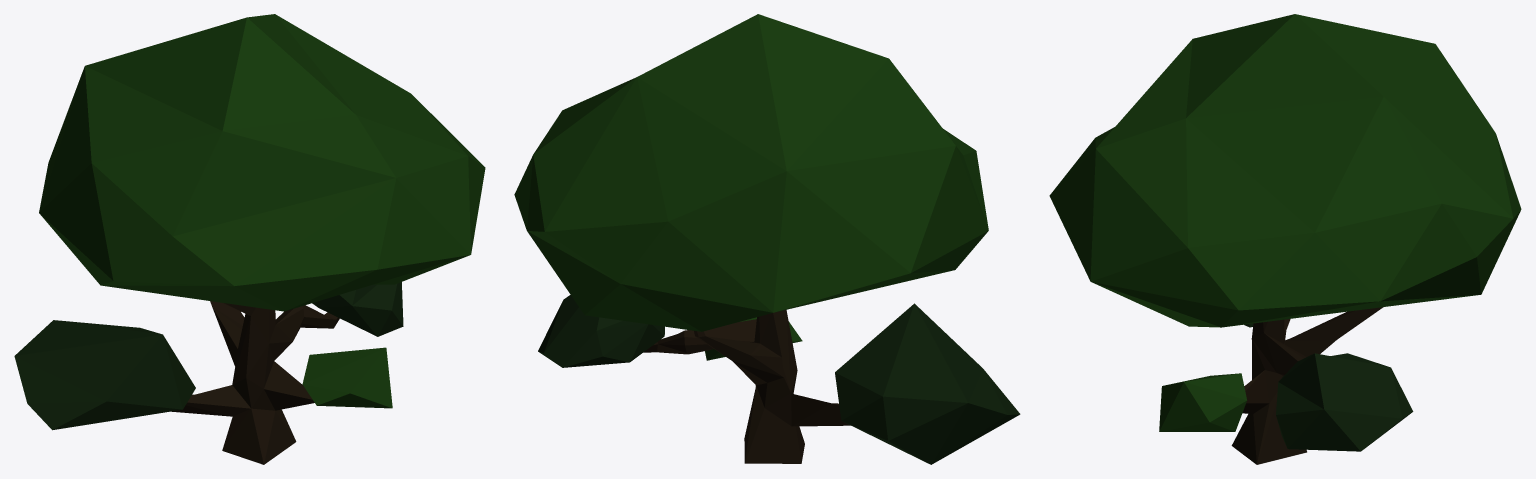
Rendered from BasicTreeV1.obj.
3 views of the same model, side by side, from view 1: azimuth 30°, elevation 25°; view 2: azimuth 150°, elevation 25°; view 3: azimuth 270°, elevation 25° (orthographic). The views are drawn at different scales.
Parts seen in each view (by area): view 1: Cylinder.001_Cylinder.003; view 2: Cylinder.001_Cylinder.003; view 3: Cylinder.001_Cylinder.003.
Part boxes in pixels (left/top/right/bottom): Cylinder.001_Cylinder.003: left=14, top=14, right=485, bottom=464; Cylinder.001_Cylinder.003: left=514, top=14, right=1020, bottom=464; Cylinder.001_Cylinder.003: left=1049, top=14, right=1521, bottom=464.
Size of the model in its own units: 11.1 by 10.22 by 9.96.
